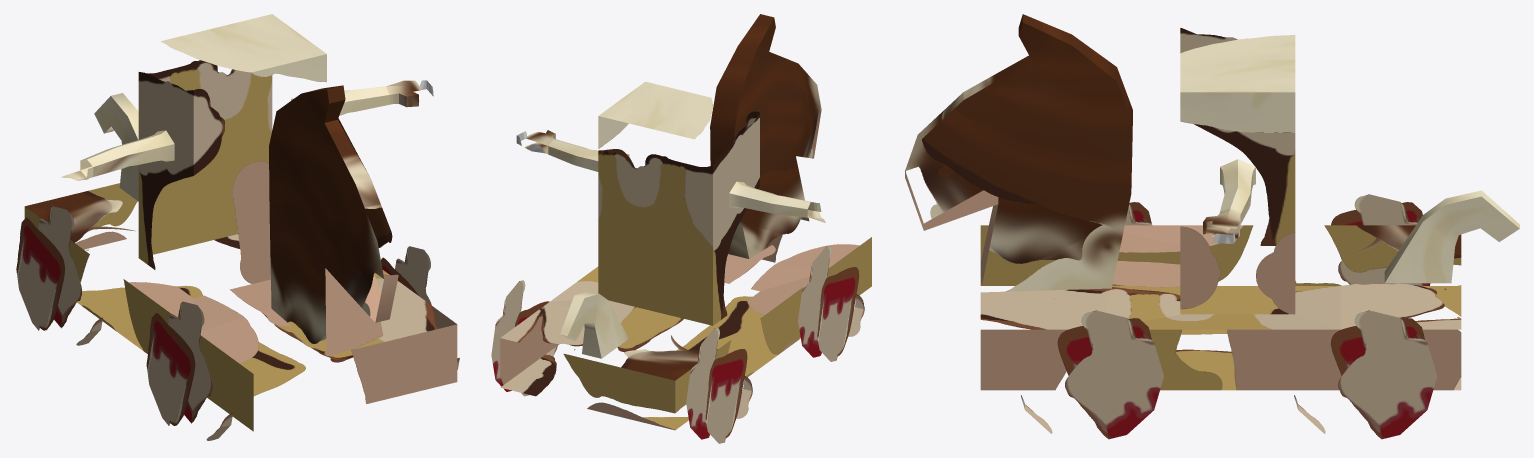
The model's file is Sir_Saladin_Texturizado.fbx.
3 views of the same model, side by side, from view 1: azimuth 30°, elevation 25°; view 2: azimuth 150°, elevation 25°; view 3: azimuth 270°, elevation 25° (orthographic). The views are drawn at different scales.
Parts seen in each view (by area): view 1: polySurface1, polySurface5, polySurface3, polySurface4; view 2: polySurface1, polySurface3, polySurface5, polySurface2; view 3: polySurface1, polySurface2, polySurface4, polySurface3.
Boxes of the visible parts, x1,y1,x2,y2 form: polySurface1: [24, 14, 457, 431]; polySurface5: [146, 301, 232, 440]; polySurface3: [16, 206, 102, 345]; polySurface4: [381, 246, 459, 369]; polySurface1: [500, 14, 871, 430]; polySurface3: [686, 327, 752, 443]; polySurface5: [798, 246, 864, 361]; polySurface2: [491, 280, 557, 396]; polySurface1: [905, 14, 1519, 390]; polySurface2: [1294, 310, 1437, 439]; polySurface4: [1021, 310, 1163, 439]; polySurface3: [1295, 194, 1430, 285].
Bounding box in the file's own units: 172 × 149 × 228.
